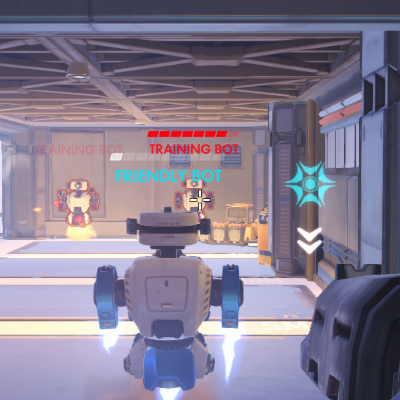hpbar: (146, 130, 240, 138)
